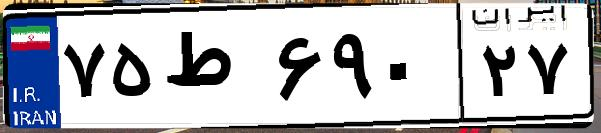0: (385, 28, 445, 110)
2: (475, 38, 525, 113)
5: (110, 28, 158, 98)
6: (270, 28, 330, 110)
7: (57, 26, 110, 100), (525, 38, 570, 115)
9: (330, 28, 385, 110)
ط: (158, 20, 270, 120)
